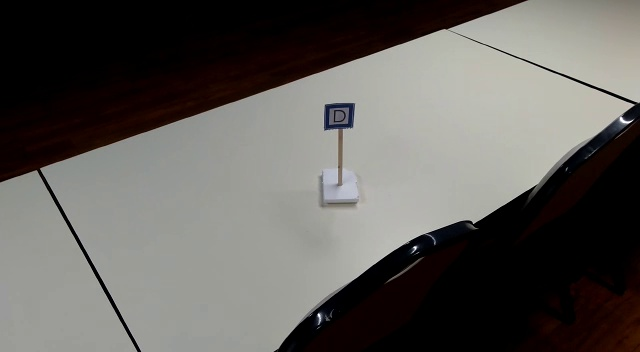durak: (326, 105, 353, 130)
